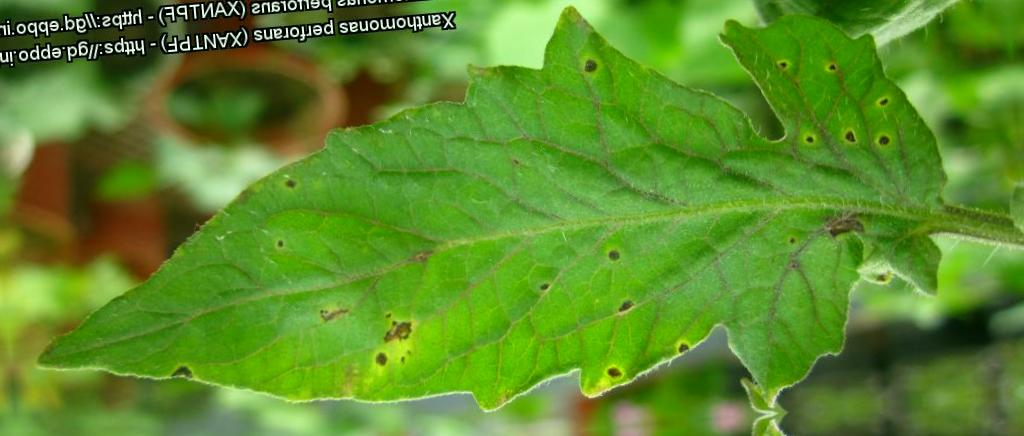Tomato leaf bacterial spot: (15, 0, 967, 436)
